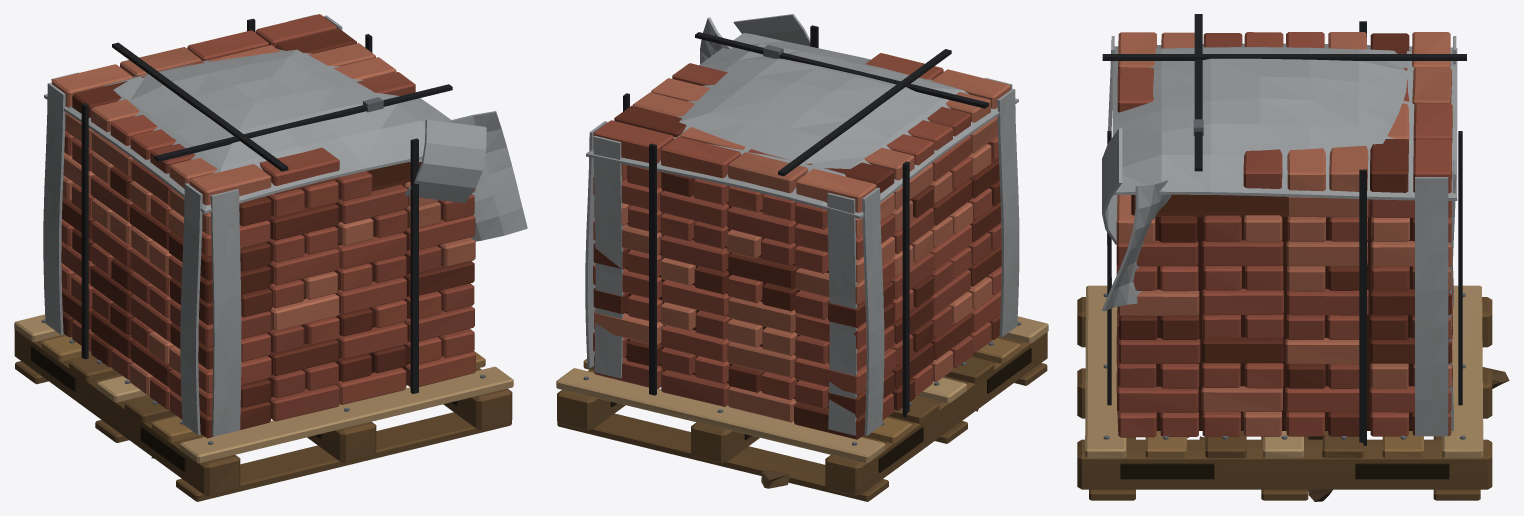
Rendered from brick-pallet.glb.
The picture shows the model from 3 angles, left to right: view 1: azimuth 30°, elevation 25°; view 2: azimuth 150°, elevation 25°; view 3: azimuth 270°, elevation 25°; orthographic projection. The views are drawn at different scales.
Parts seen in each view (by area): view 1: brick_pallet; view 2: brick_pallet; view 3: brick_pallet.
Boxes of the visible parts, bbox=[...] form: brick_pallet: bbox=[14, 14, 527, 501]; brick_pallet: bbox=[556, 14, 1048, 501]; brick_pallet: bbox=[1077, 14, 1509, 501].
Bounding box in the file's own units: 1.07 × 0.9495 × 1.1.
